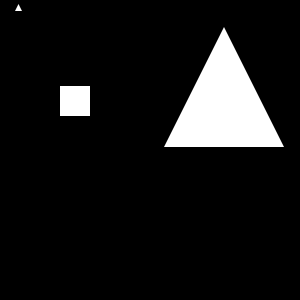circle: (60, 86, 90, 116)
triangle: (164, 27, 284, 147), (15, 4, 22, 11)
